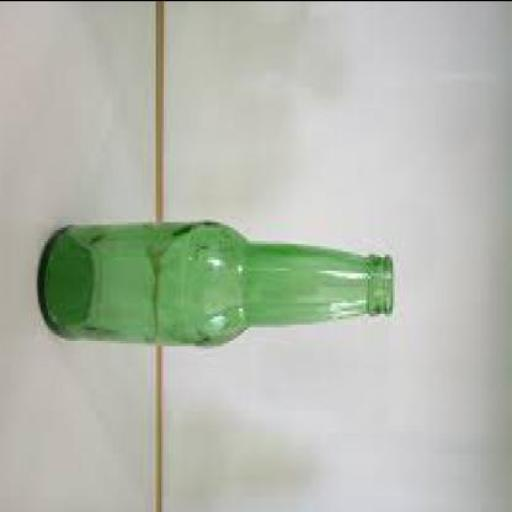glass: (40, 218, 394, 342)
